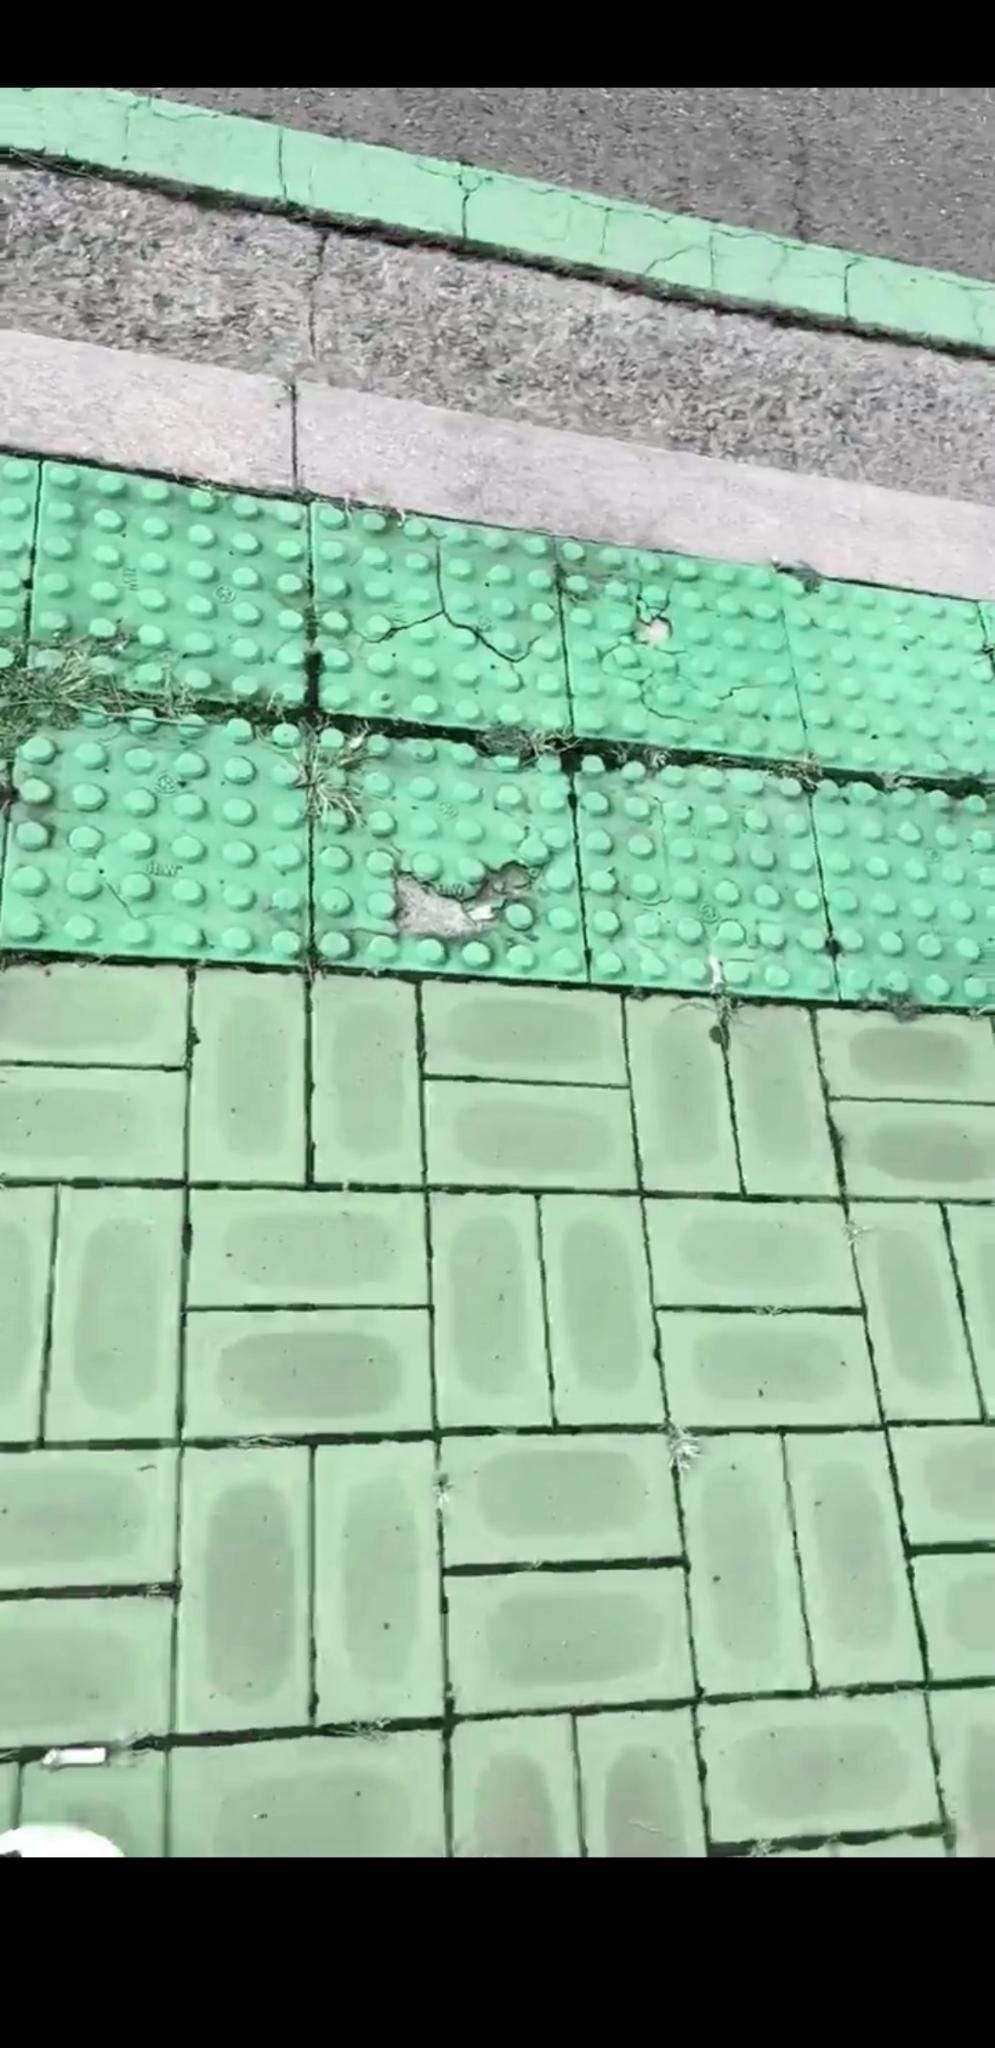Stop block broken: (313, 725, 586, 980), (312, 504, 571, 729), (556, 539, 807, 758)
Stop block normal: (575, 751, 837, 997)
